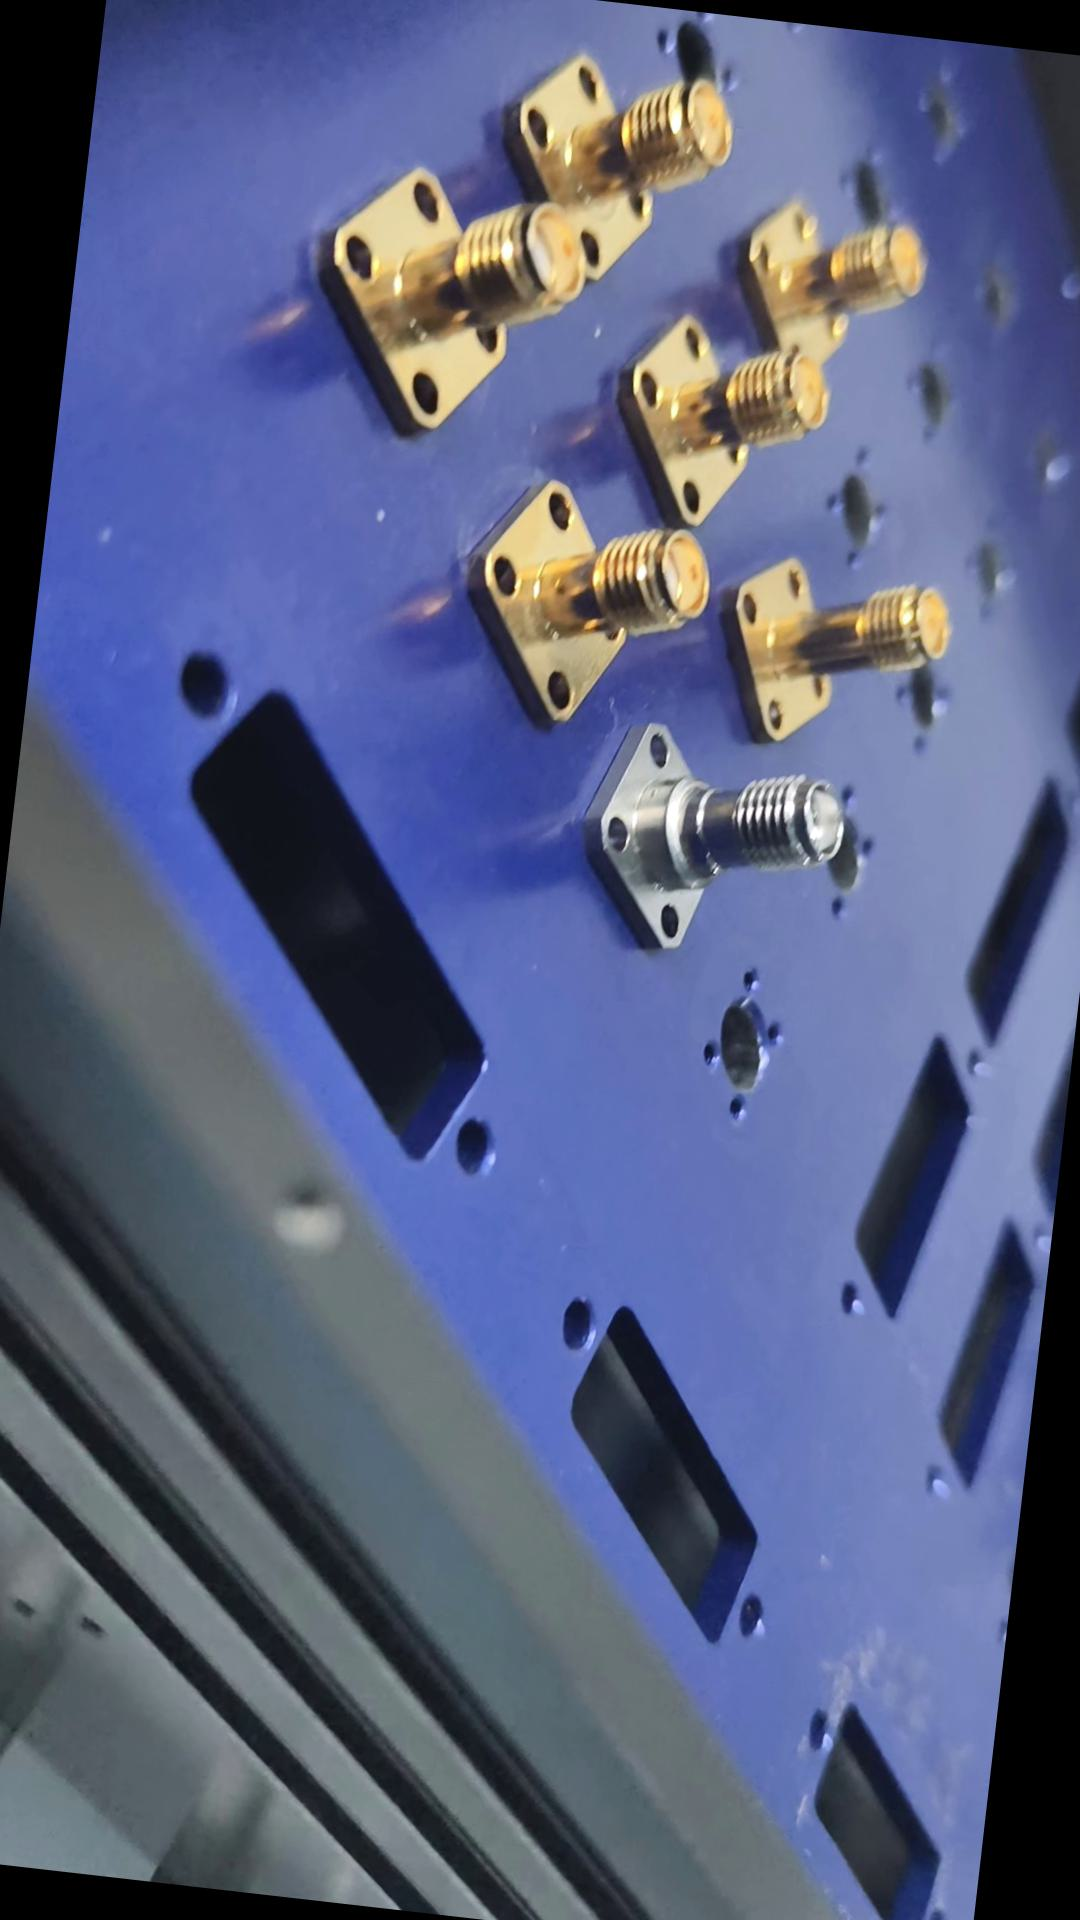SMA: (314, 156, 599, 450), (458, 448, 723, 741), (574, 699, 857, 971), (611, 286, 847, 551), (712, 539, 964, 767)
